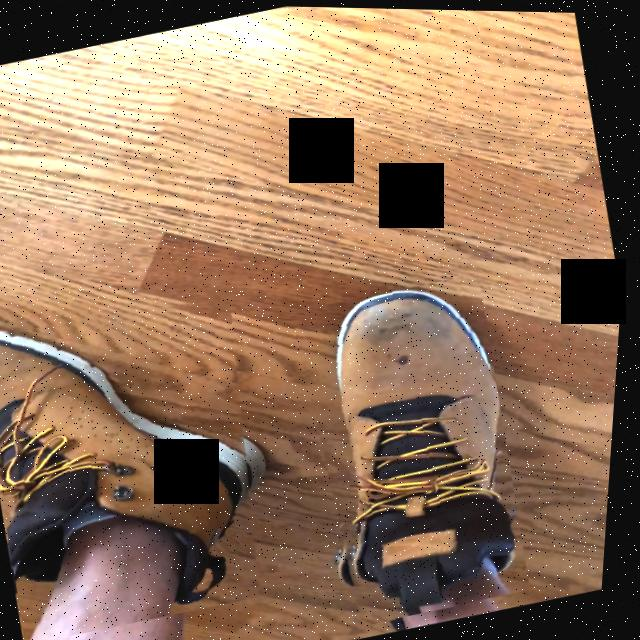shoe: (0, 339, 256, 617), (339, 282, 518, 614)
